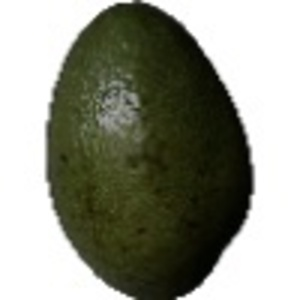abacate: (45, 1, 255, 297)
